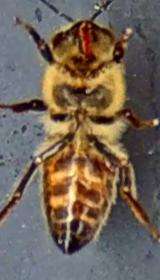varroa_mite: (90, 144, 124, 174)
